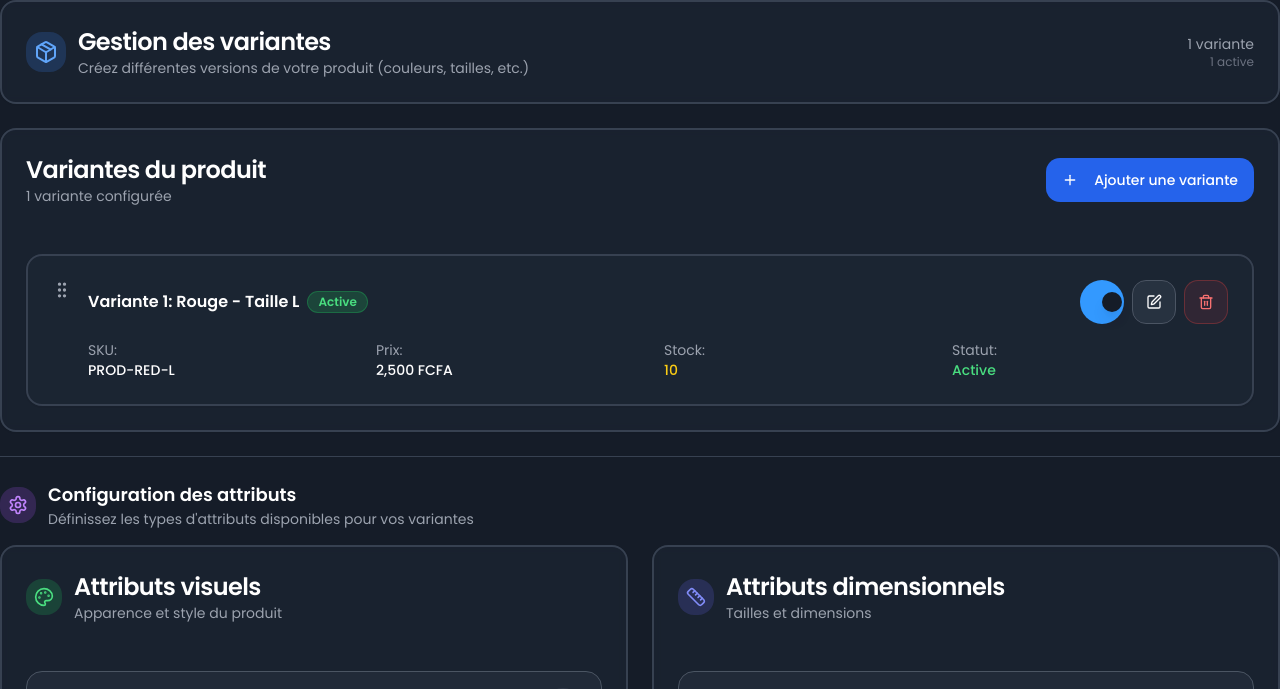
Scenario: ProductVariantsTab › ouvre le formulaire d'édition quand le bouton éditer est cliqué
Click the button named "Éditer la variante Rouge - Taille L" at (1154, 302), box x1=1132 y1=280 x2=1176 y2=324
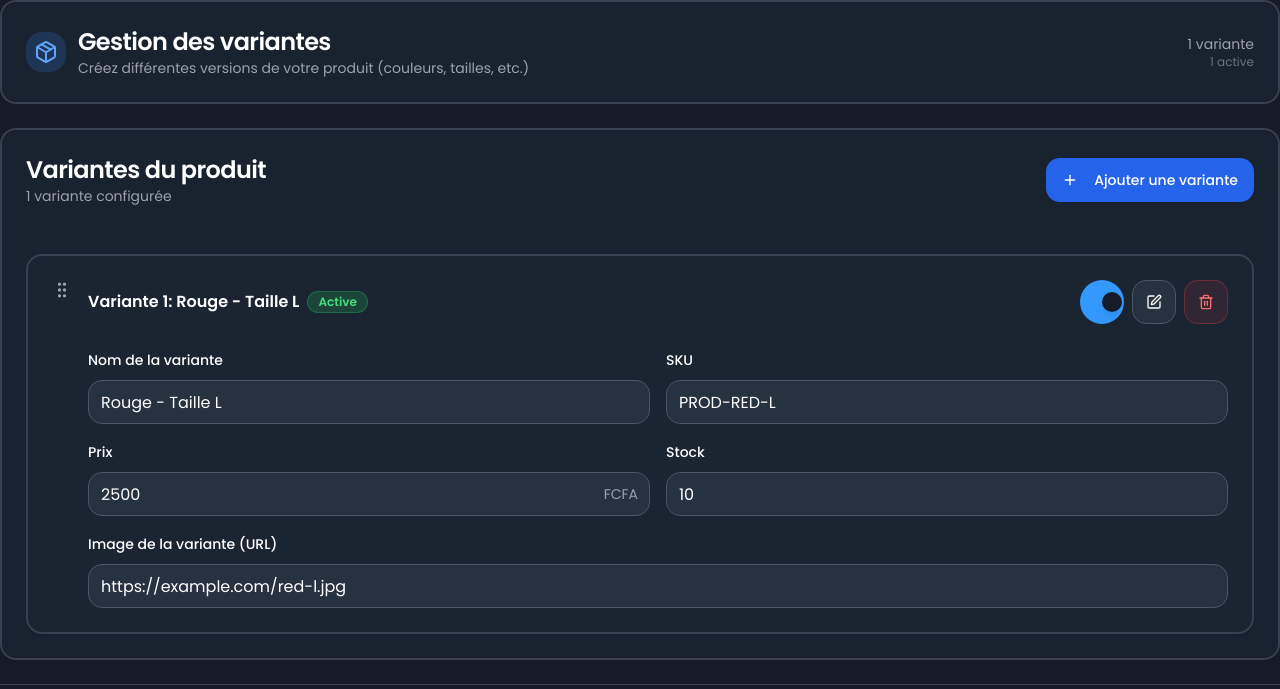
Result: the field labelled "Nom de la variante" is shown at x1=88 y1=380 x2=650 y2=424
Result: the field named "SKU de la variante" is shown at x1=666 y1=380 x2=1228 y2=424
